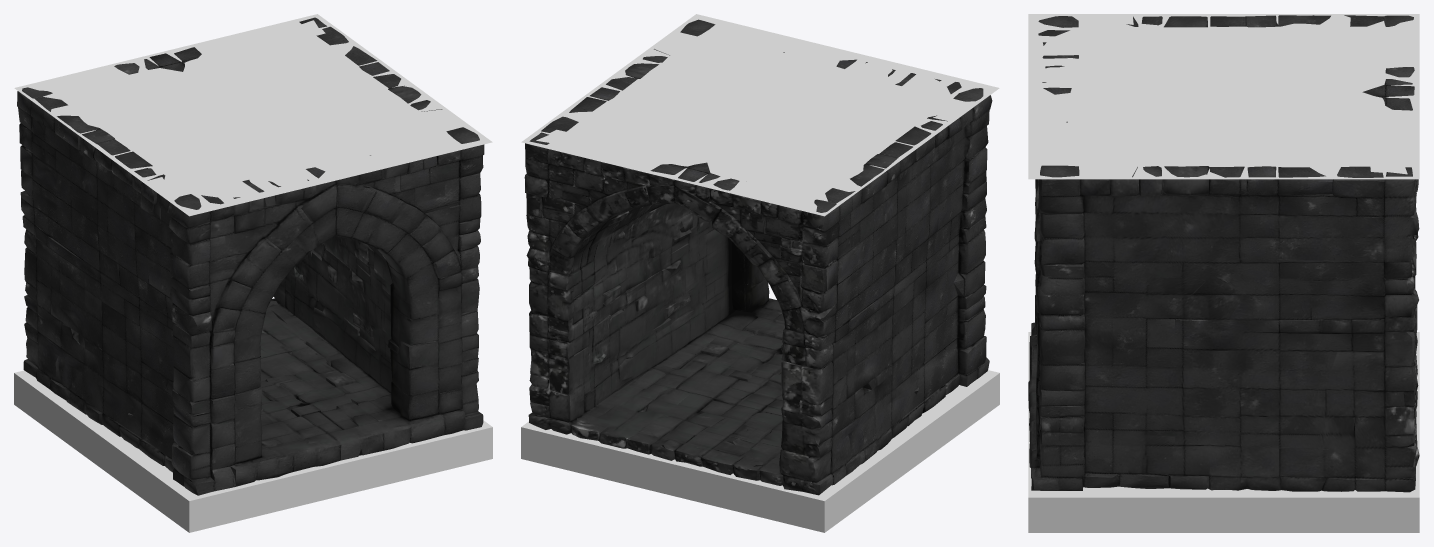
The model's file is module_straight.glb.
3 views of the same model, side by side, from view 1: azimuth 30°, elevation 25°; view 2: azimuth 150°, elevation 25°; view 3: azimuth 270°, elevation 25° (orthographic). The views are drawn at different scales.
Visible parts, largest first — view 1: tripo_node_d1f22615-8681-4910-b354-69580f6371b2; view 2: tripo_node_d1f22615-8681-4910-b354-69580f6371b2; view 3: tripo_node_d1f22615-8681-4910-b354-69580f6371b2.
Boxes of the visible parts, x1,y1,x2,y2 form: tripo_node_d1f22615-8681-4910-b354-69580f6371b2: (14, 14, 492, 532); tripo_node_d1f22615-8681-4910-b354-69580f6371b2: (521, 14, 999, 532); tripo_node_d1f22615-8681-4910-b354-69580f6371b2: (1028, 14, 1419, 532).
Bounding box in the file's own units: 6 × 5.99 × 6.
2 materials, 1 textured.
